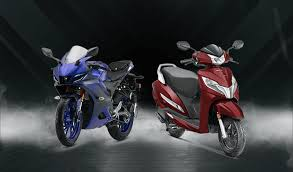motorcycle: (149, 37, 252, 156), (36, 44, 144, 148)
